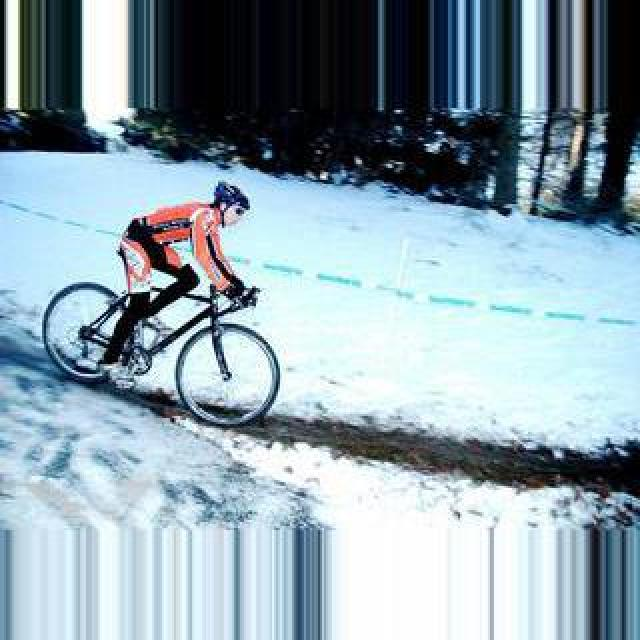MC-Bike: (98, 182, 254, 378)
Person: (42, 265, 278, 425)
